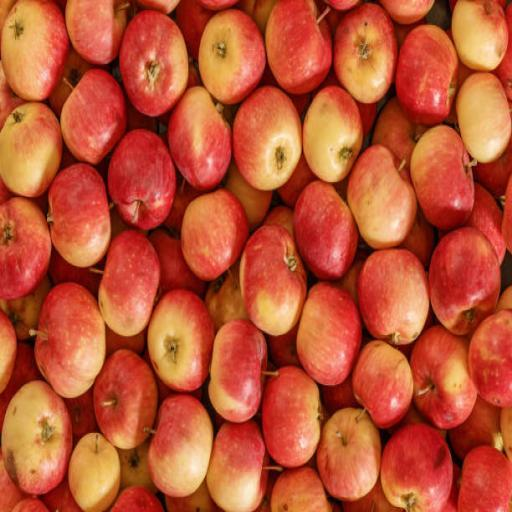apple: (35, 287, 109, 397), (346, 141, 419, 247), (430, 228, 502, 332), (47, 162, 114, 272), (241, 225, 308, 335), (120, 12, 190, 115), (358, 249, 432, 346), (145, 395, 212, 499), (299, 282, 364, 389), (294, 181, 362, 281), (95, 349, 163, 449), (149, 289, 215, 392), (236, 88, 301, 190), (0, 0, 66, 100), (209, 319, 271, 425), (319, 405, 386, 503), (411, 328, 476, 429), (101, 229, 161, 338), (168, 88, 233, 188), (382, 422, 455, 511), (108, 134, 177, 228), (264, 364, 326, 468), (412, 127, 476, 224), (266, 0, 332, 94), (62, 70, 127, 165), (199, 9, 266, 100), (207, 422, 274, 511), (399, 22, 457, 124), (184, 189, 248, 277), (0, 105, 63, 194), (0, 191, 52, 297), (303, 87, 361, 181), (354, 338, 415, 426), (458, 68, 511, 164), (472, 307, 511, 407)
